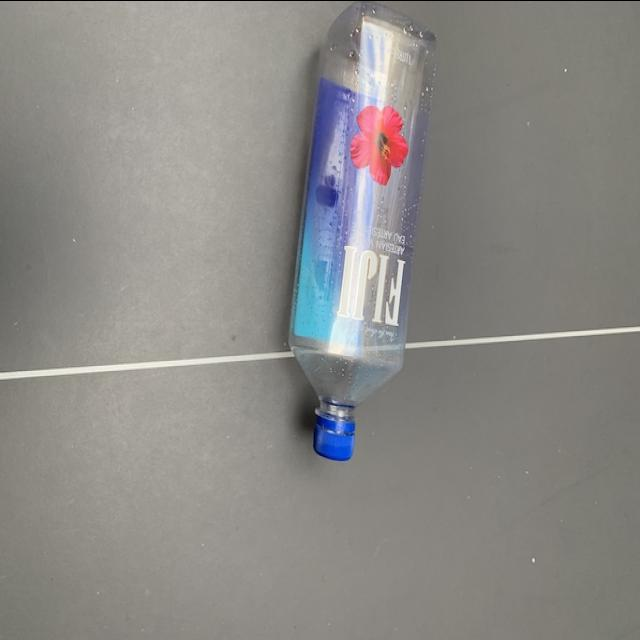litter: (288, 0, 450, 460)
